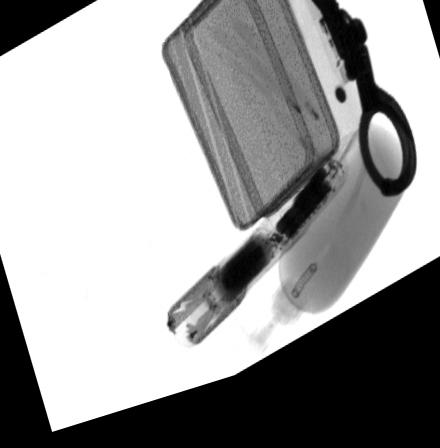Baton: (168, 177, 345, 363)
HandCuffs: (289, 0, 417, 221)
Lighter: (315, 30, 355, 108)
